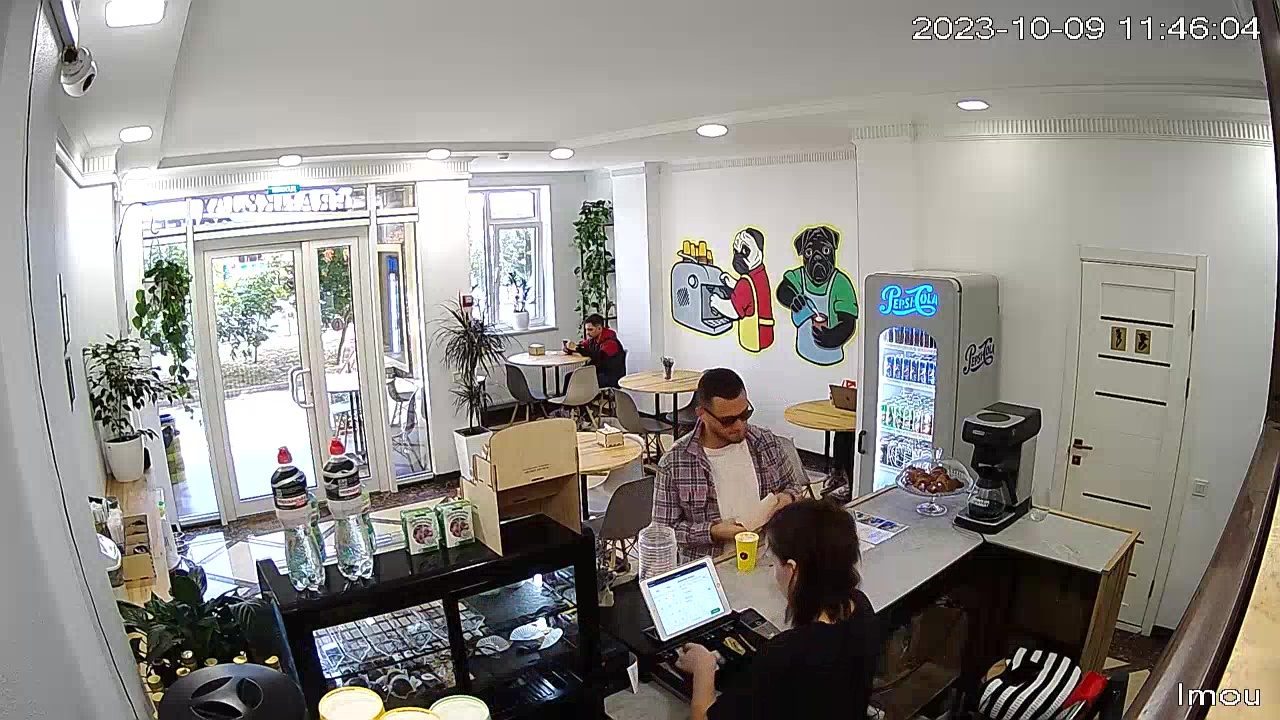openedcash: (636, 555, 775, 702)
